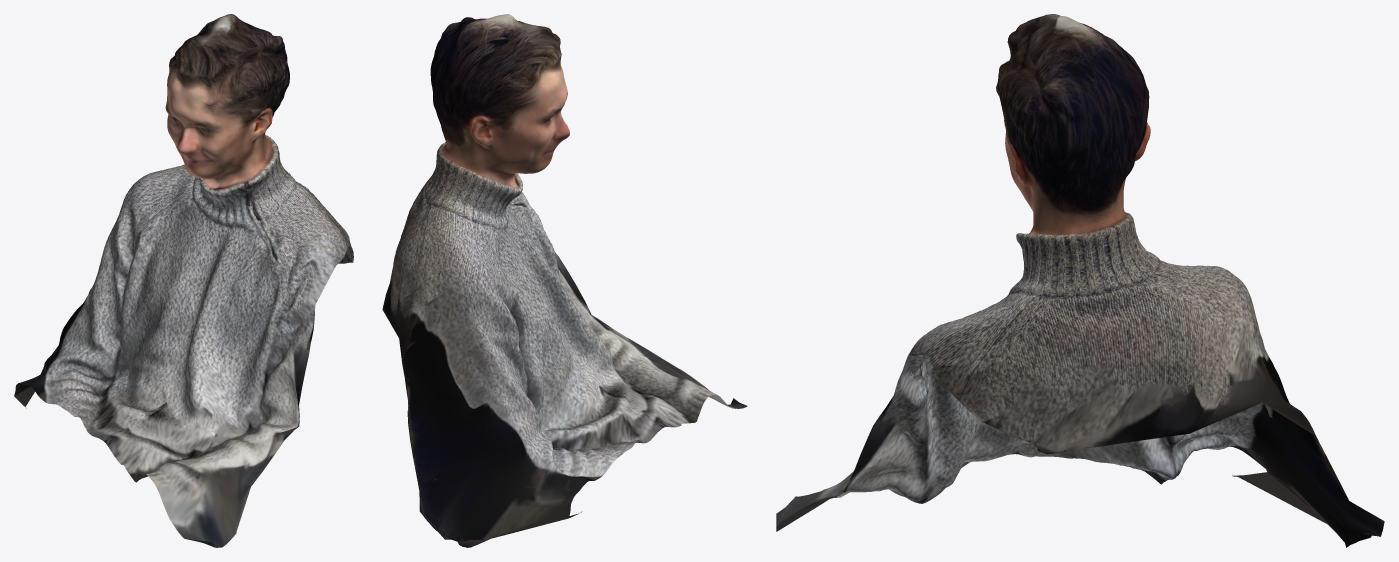
Rendered from 3DModel.gltf.
3 views of the same model, side by side, from view 1: azimuth 30°, elevation 25°; view 2: azimuth 150°, elevation 25°; view 3: azimuth 270°, elevation 25° (orthographic). The views are drawn at different scales.
Visible parts, largest first — view 1: 3DModel; view 2: 3DModel; view 3: 3DModel.
Boxes of the visible parts, left/top/right/bottom form: 3DModel: left=14, top=14, right=353, bottom=547; 3DModel: left=382, top=14, right=747, bottom=547; 3DModel: left=776, top=14, right=1384, bottom=547.
Size of the model in its own units: 0.9234 by 1.56 by 1.47.
1 material, 1 textured.
